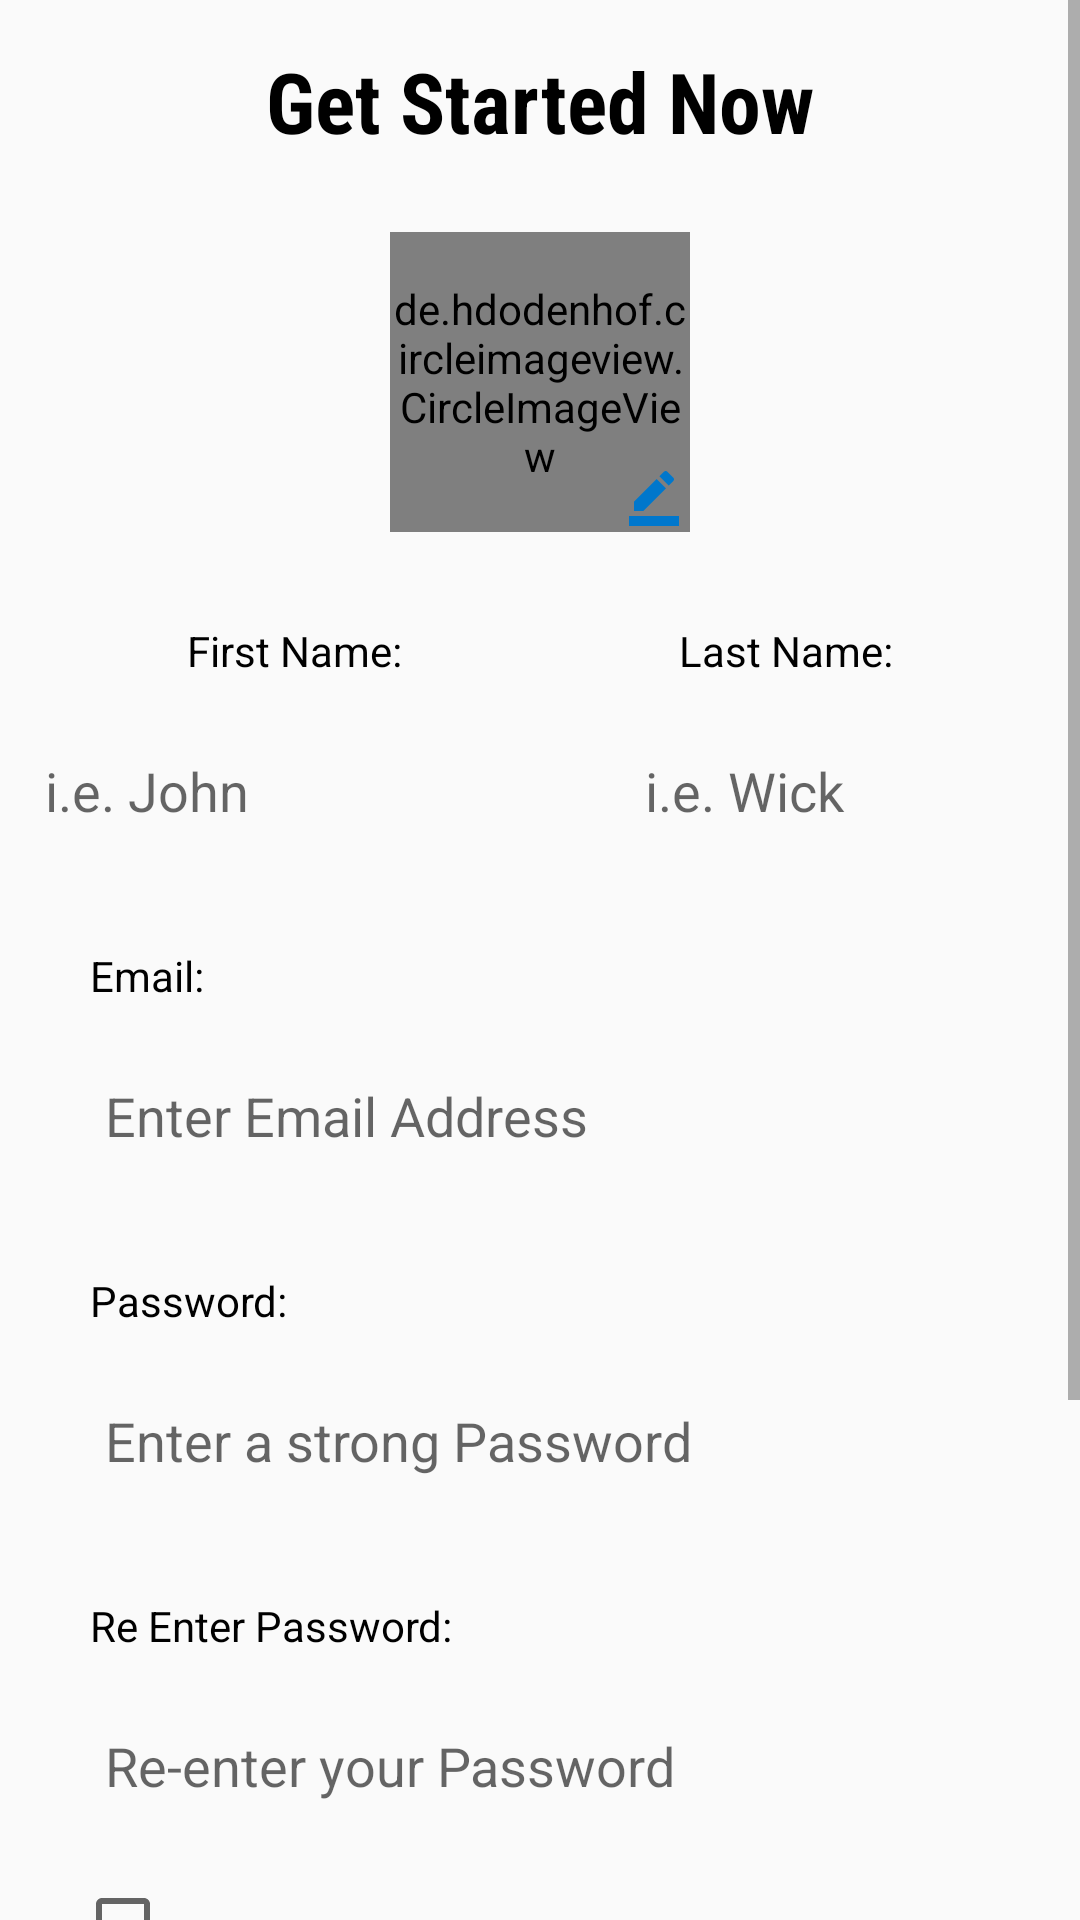

Named icons in this screenshot (1080x1920) and their bounding boxes, (x1, y1, x2, y2):
edit: (629, 471, 679, 526)
